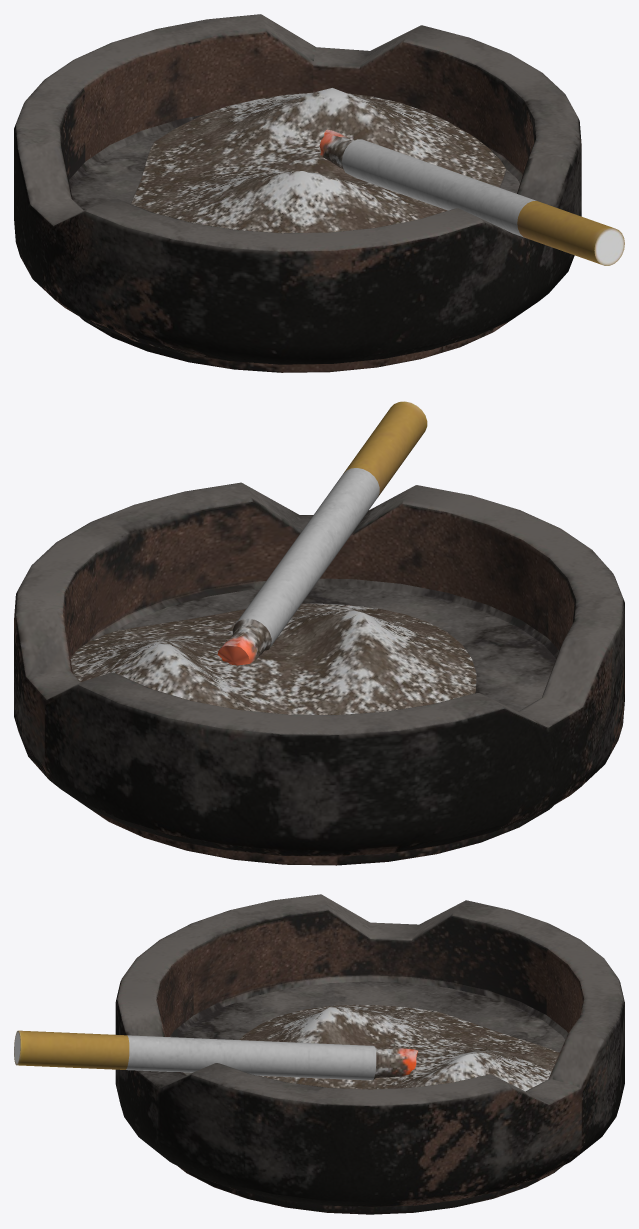
File: ash_tray.glb
3 renders of one model, top to bottom at view 1: azimuth 30°, elevation 25°; view 2: azimuth 150°, elevation 25°; view 3: azimuth 270°, elevation 25°, orthographic. The views are drawn at different scales.
Parts seen in each view (by area): view 1: polySurface2, polySurface1, polySurface3; view 2: polySurface2, polySurface1, polySurface3; view 3: polySurface2, polySurface1, polySurface3.
Boxes of the visible parts, x1=… form: polySurface2: x1=14, y1=14, x2=581, y2=372; polySurface1: x1=131, y1=88, x2=505, y2=233; polySurface3: x1=319, y1=129, x2=624, y2=265; polySurface2: x1=14, y1=482, x2=624, y2=865; polySurface1: x1=70, y1=603, x2=476, y2=714; polySurface3: x1=217, y1=401, x2=427, y2=665; polySurface2: x1=115, y1=894, x2=624, y2=1214; polySurface1: x1=239, y1=1004, x2=559, y2=1091; polySurface3: x1=14, y1=1030, x2=418, y2=1080.
Bounding box in the file's own units: 2.86 × 0.8661 × 3.43.
5 materials, 5 textured.
